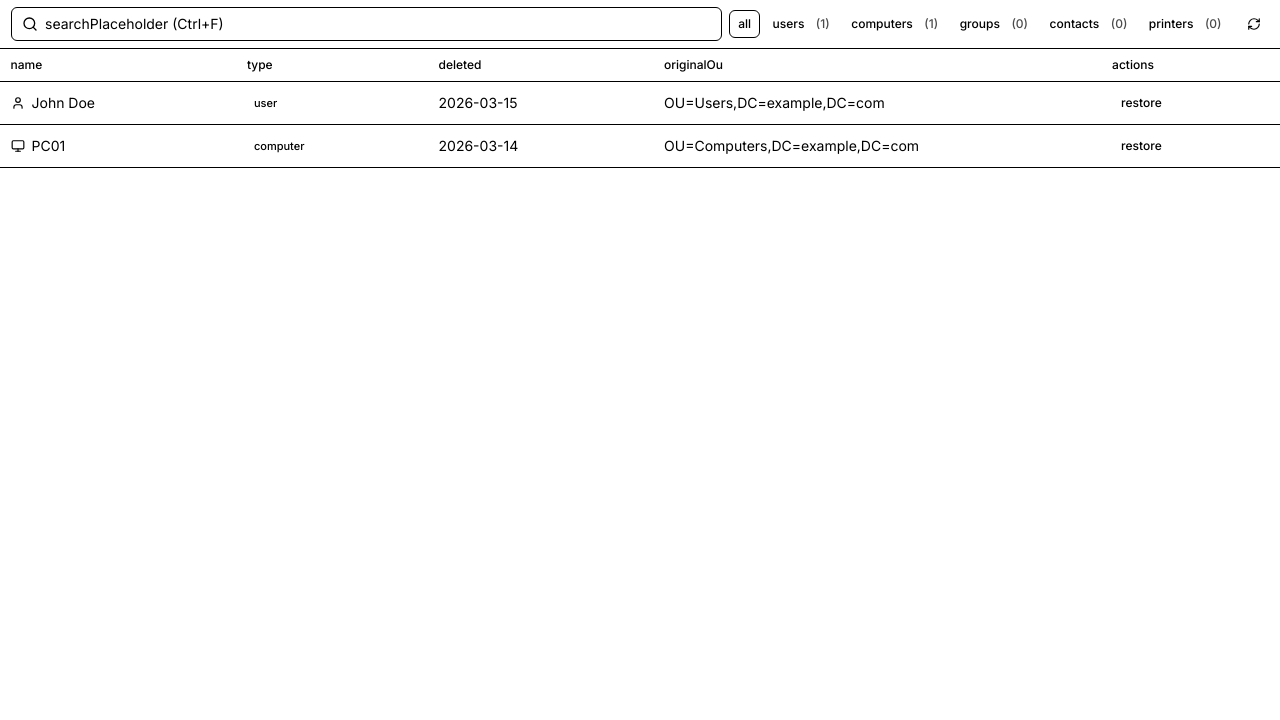
RecycleBin › opens restore dialog on Restore click
Expected: the table with test id "recycle-bin-table" is shown, [0,48,1279,168]
Click the button with test id "restore-btn" in the row of "John Doe". click: (1141, 102)
box: [1112,88,1171,116]
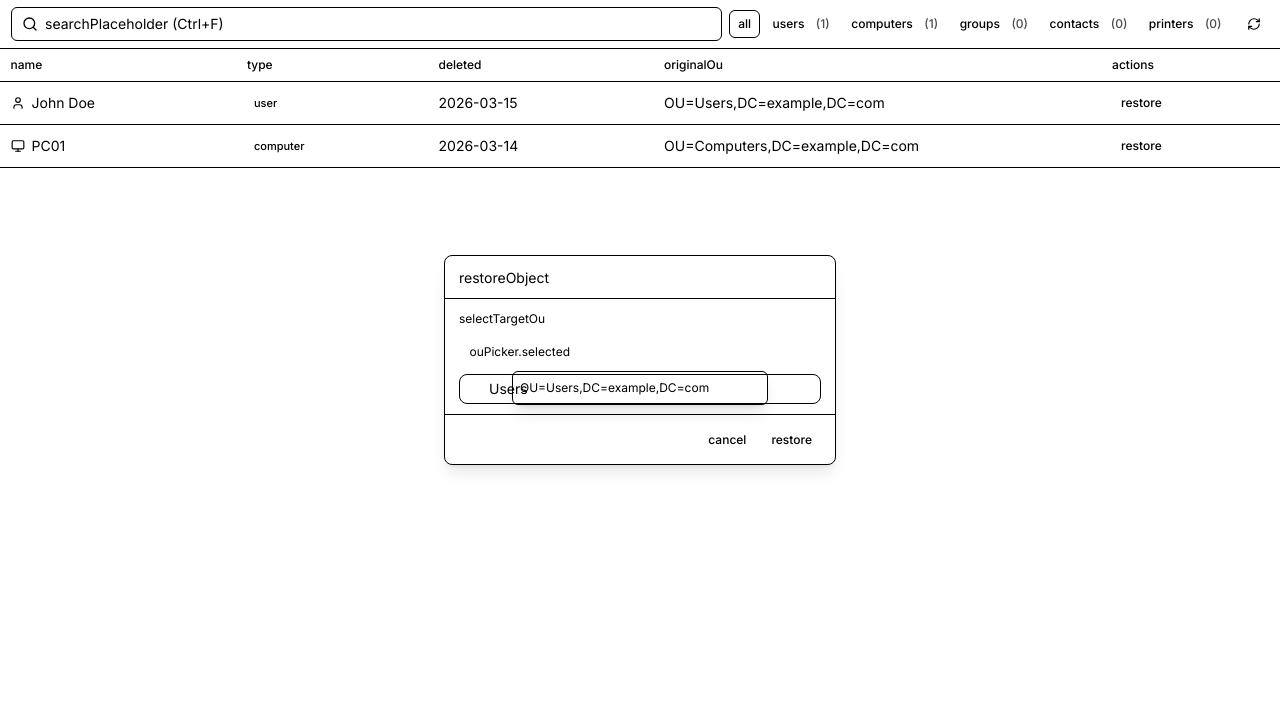
Now the dialog with test id "restore-dialog" is shown, box [444,255,836,465]
